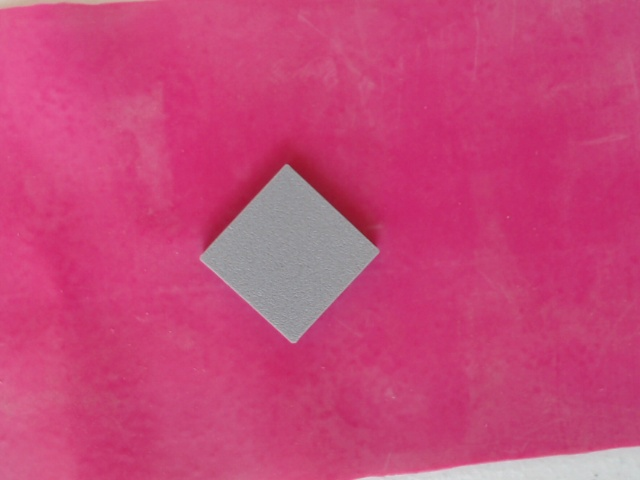Defective: (197, 161, 385, 351)
